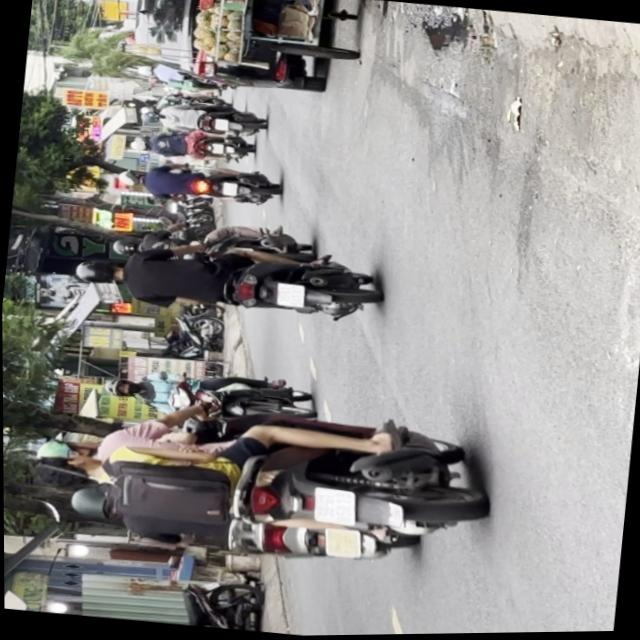helmet: (64, 484, 119, 521), (31, 434, 95, 464), (72, 256, 120, 287), (101, 377, 139, 398)
licenseplate: (20, 378, 492, 583), (66, 227, 383, 333), (99, 358, 319, 432)
nohelmet: (312, 487, 355, 525), (322, 527, 361, 560), (275, 283, 303, 308)
